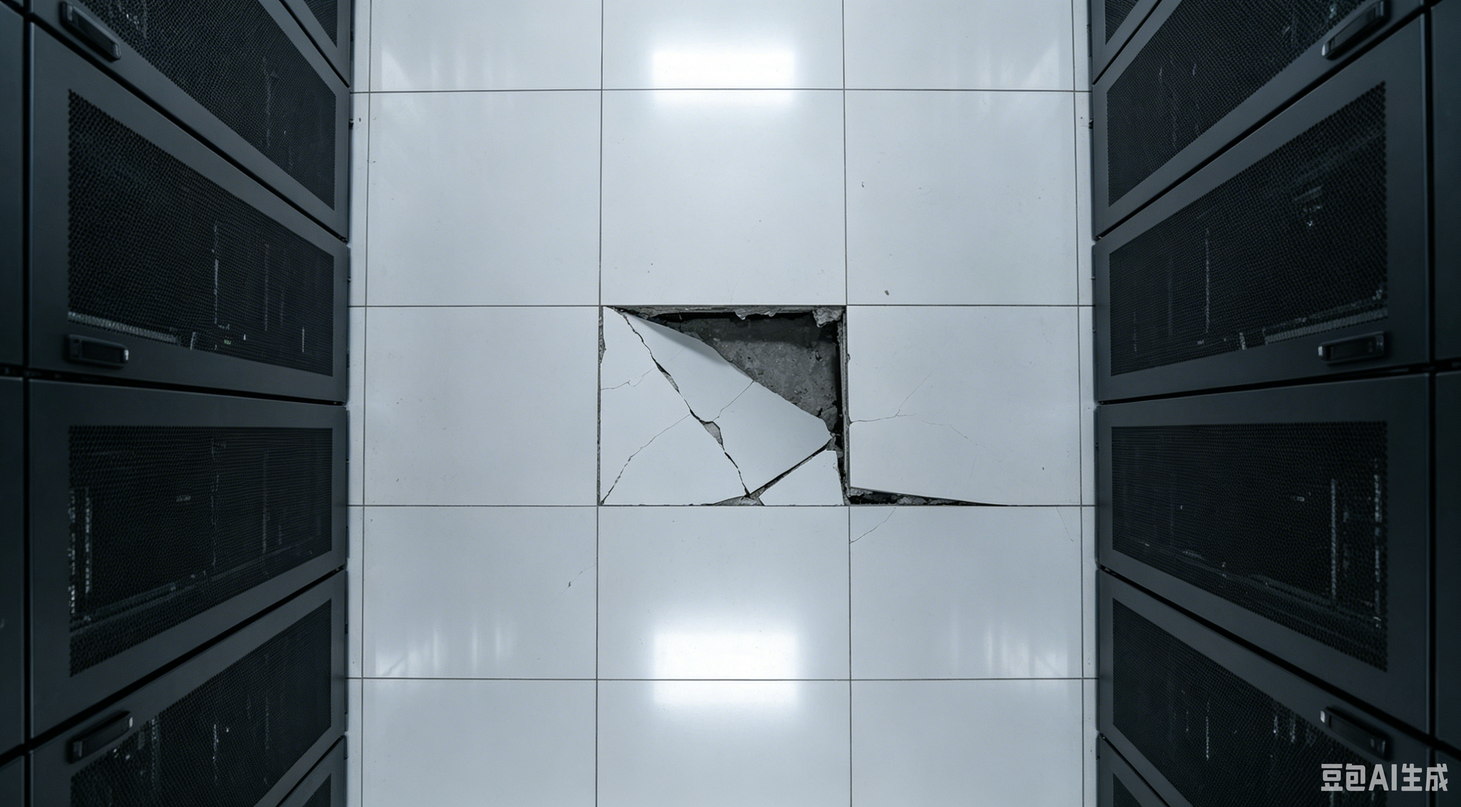floor_defect: (588, 294, 856, 520), (847, 455, 1012, 525)
